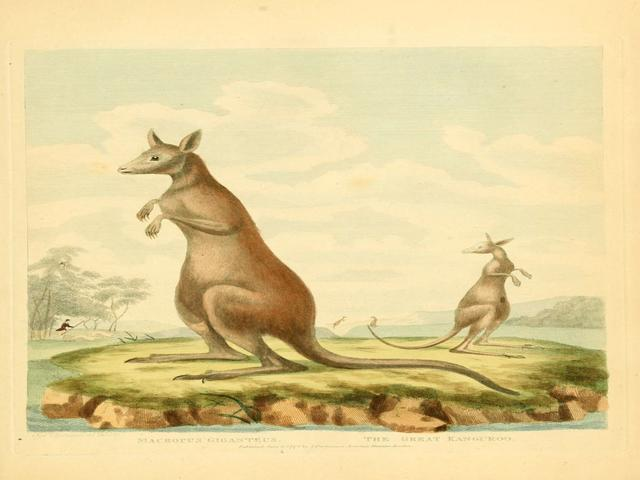kangaroo: (81, 106, 446, 416), (381, 207, 533, 363)
